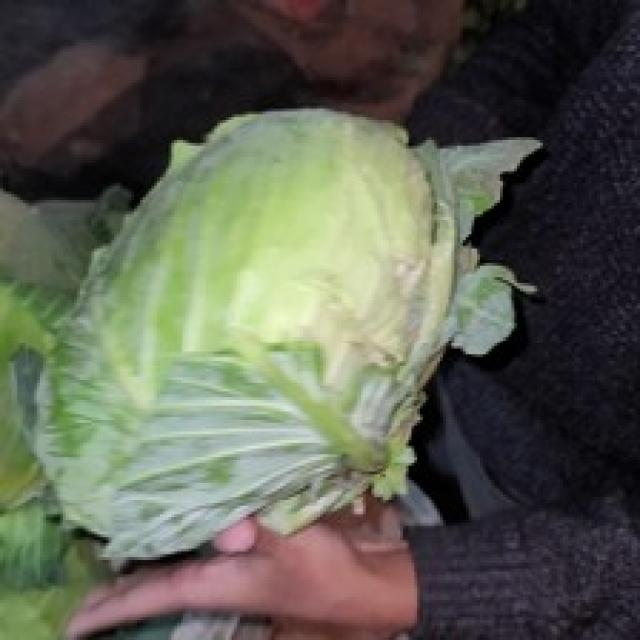Cabbage: (26, 103, 543, 574)
